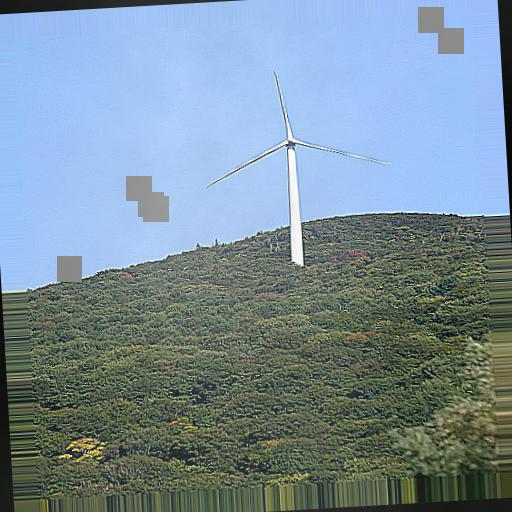wind turbine: (205, 68, 393, 268)
